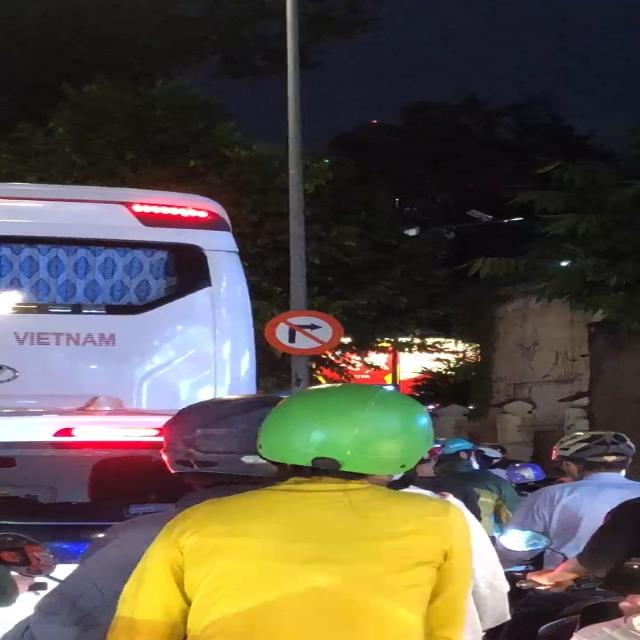Bien bao cam re phai: (256, 306, 362, 365)
